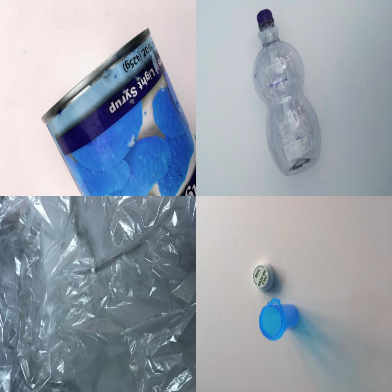metal: (41, 28, 196, 196)
plastic: (1, 196, 195, 392), (254, 9, 322, 176), (252, 263, 300, 340)
